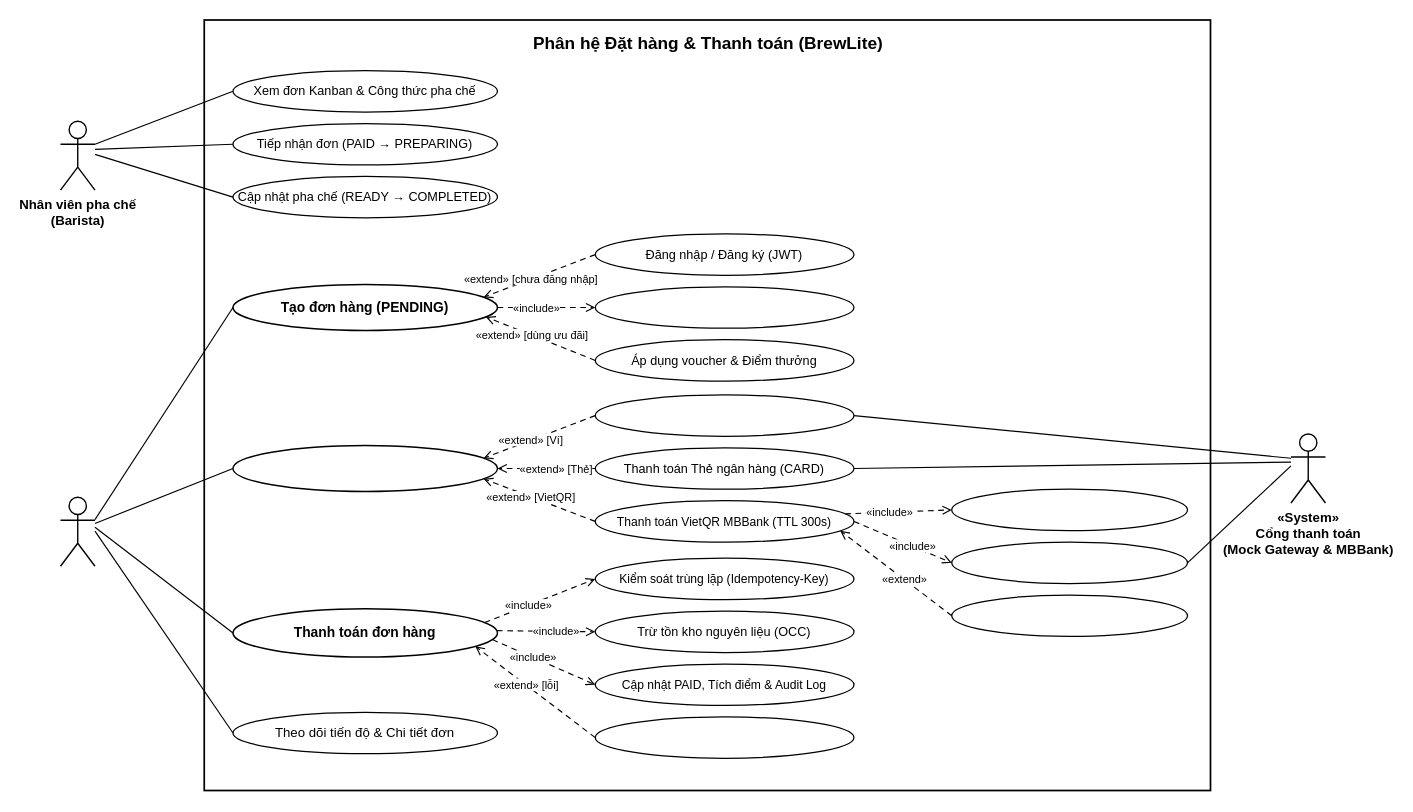
Some shapes in this 1413 by 812 pixel diagram are drawn without their labels. Each missing label, with the centre of its shape:
"Chọn phương thức thanh toán" goes at point 365,468.
"Khách hàng (Customer)" goes at point 77,531.
"Kiểm tra giỏ, biến thể & tính tổng" goes at point 724,307.
"Sinh mã QR & Đếm ngược TTL 300s" goes at point 1069,509.
"Thanh toán Ví điện tử (WALLET)" goes at point 724,415.
"Thử thanh toán lại (PAYMENT_FAILED)" goes at point 724,737.
"Vô hiệu hóa mã QR khi xong / hết hạn" goes at point 1069,615.
"Đồng bộ & Đối soát MBBank (Webhook)" goes at point 1069,562.
